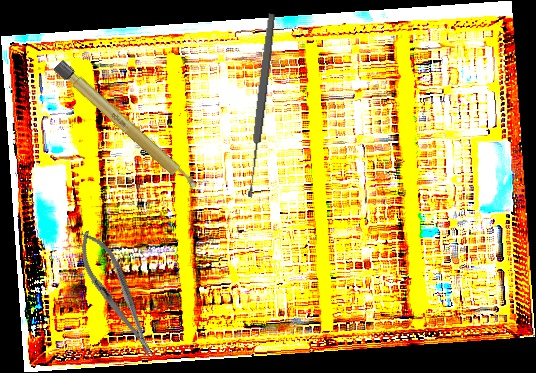Needle Holder: (68, 224, 166, 365)
Scalpel Handle: (52, 59, 200, 194)
Surgical Spoon: (243, 13, 278, 198)
